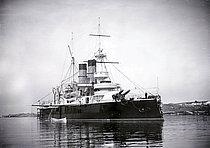Ship: (29, 56, 168, 125)
